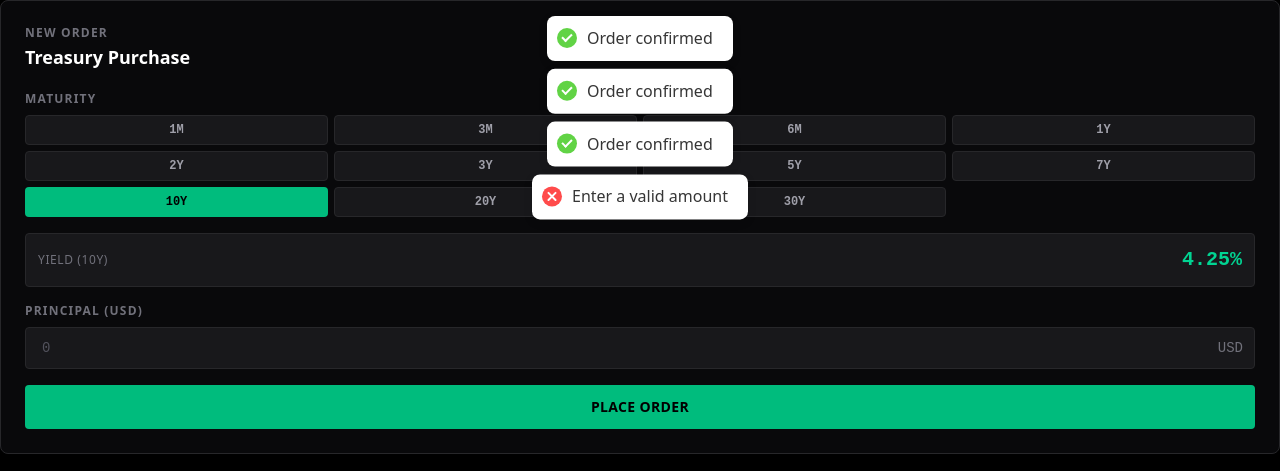
OrderForm › successful submission › clears the amount field after successful submission
The image size is (1280, 471).
Step 1. Type "10000" into the number field → (640, 348), box [25,327,1255,369]
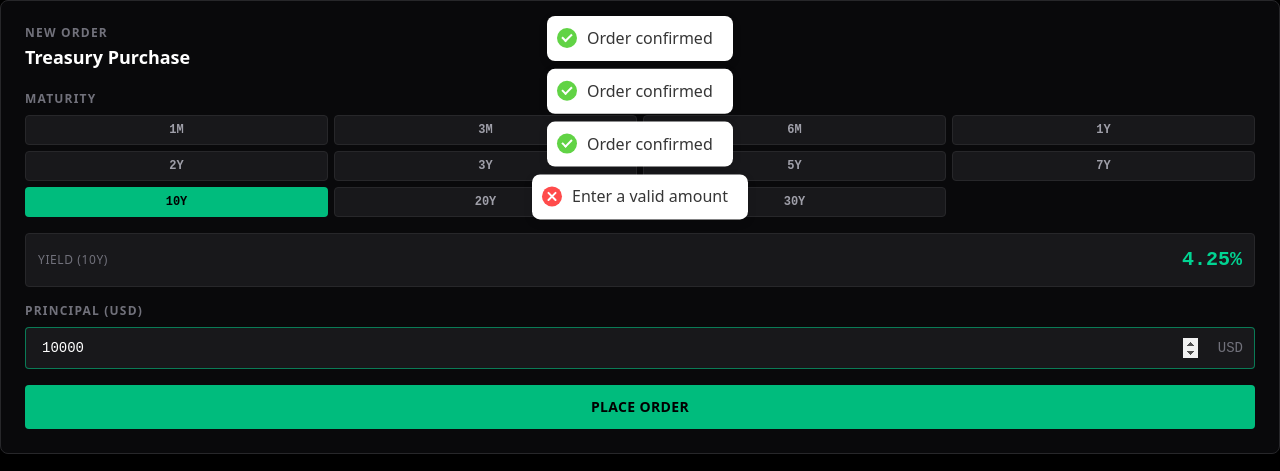
Step 2. Click the button "PLACE ORDER" → click(640, 407), box [25,385,1255,429]
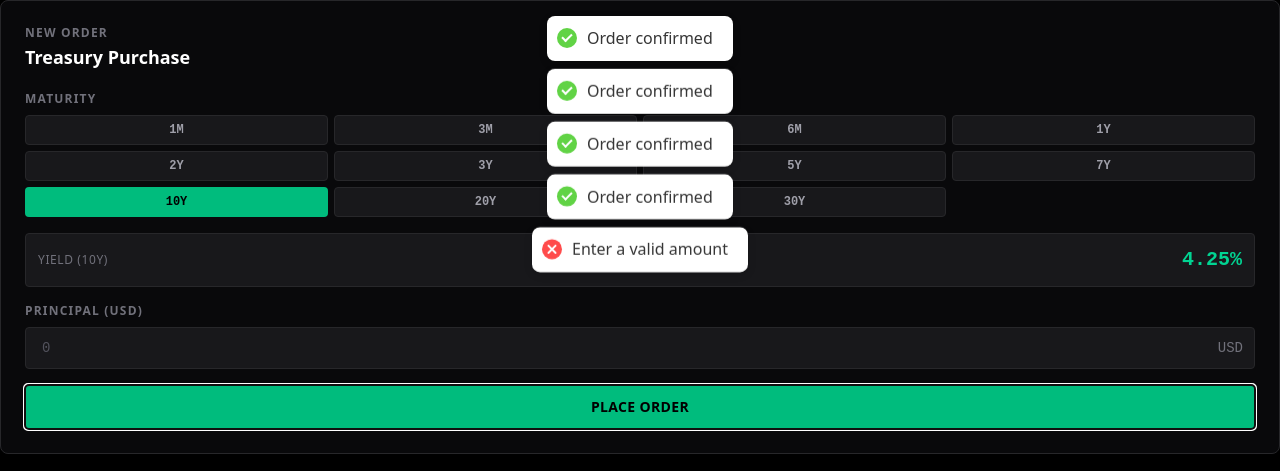
expect the number field is not empty: met, box [25,327,1255,369]
